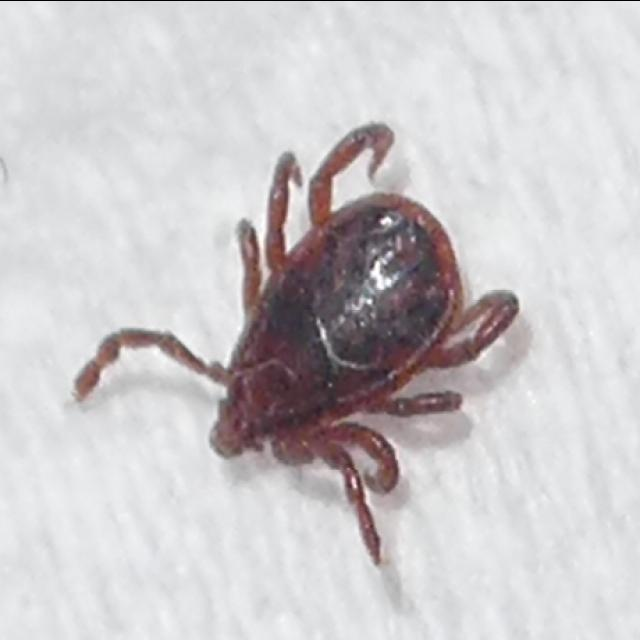Rhipicephalus Sanguineus-M: (71, 121, 523, 567)
